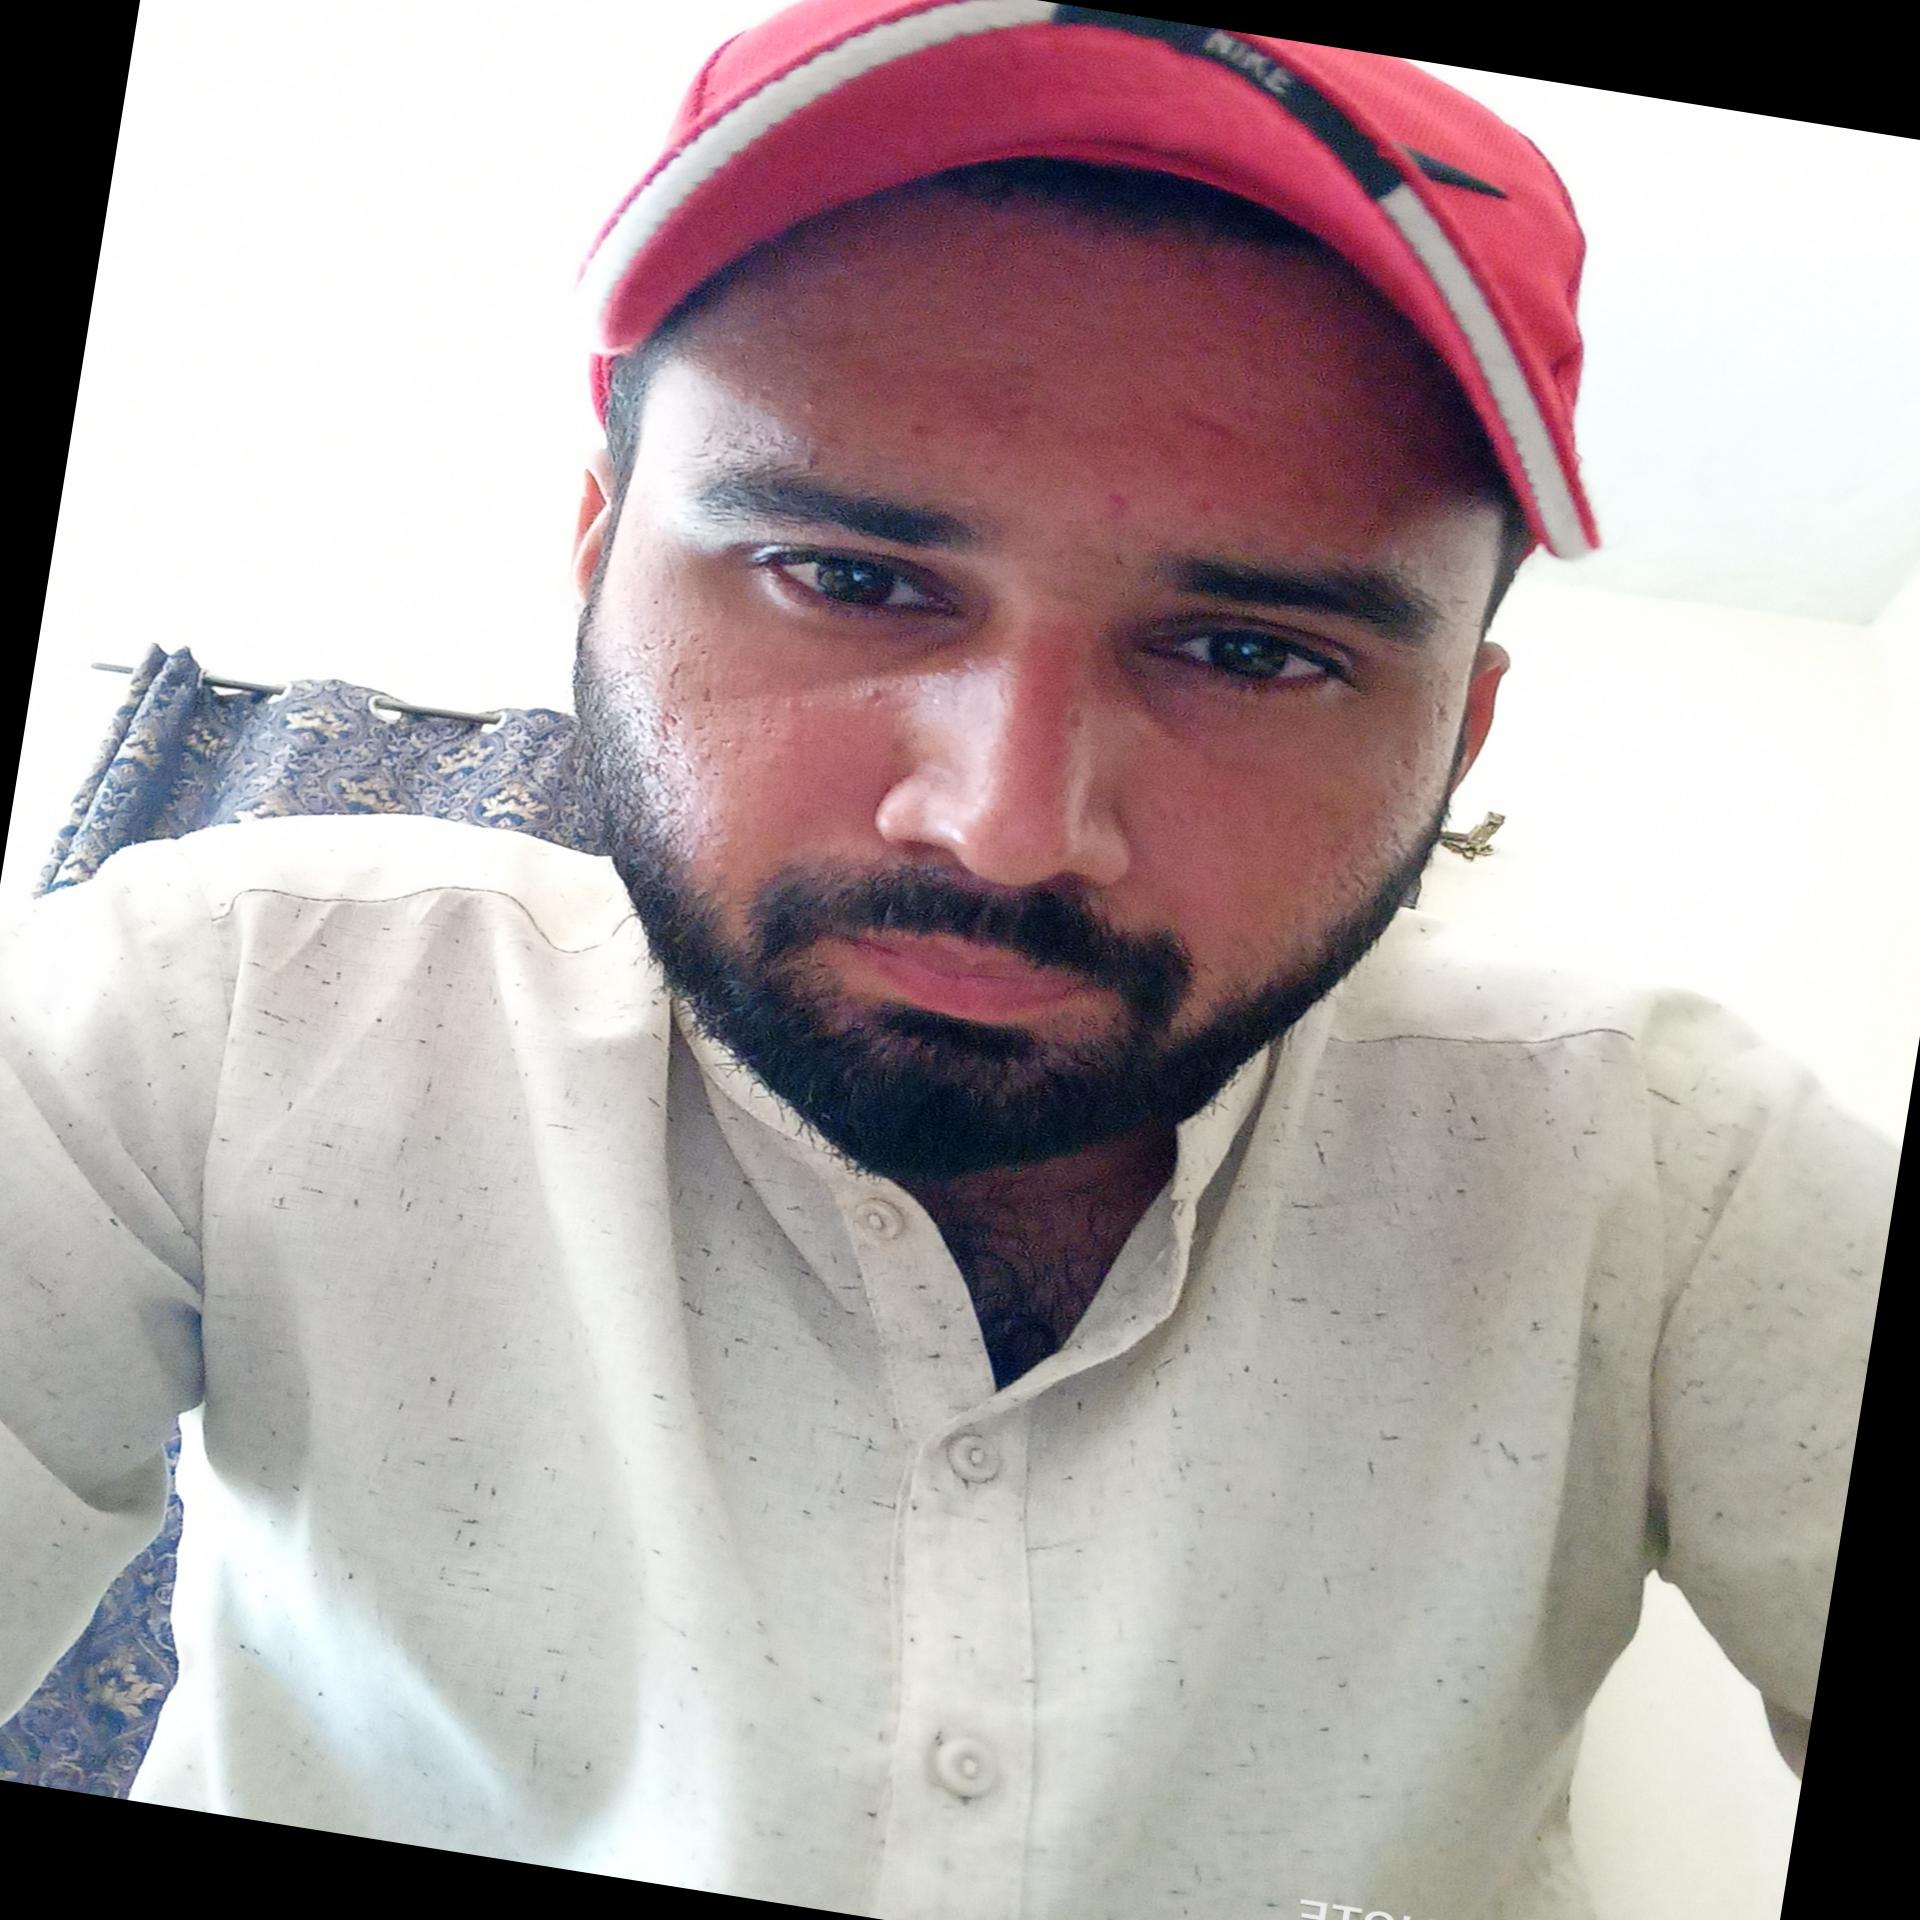Acne: (1088, 484, 1143, 522), (893, 406, 942, 448), (1187, 492, 1229, 520), (789, 392, 828, 422), (862, 684, 891, 707)
Englarged Pores: (1125, 742, 1394, 886), (668, 651, 816, 809), (1405, 656, 1461, 737)
